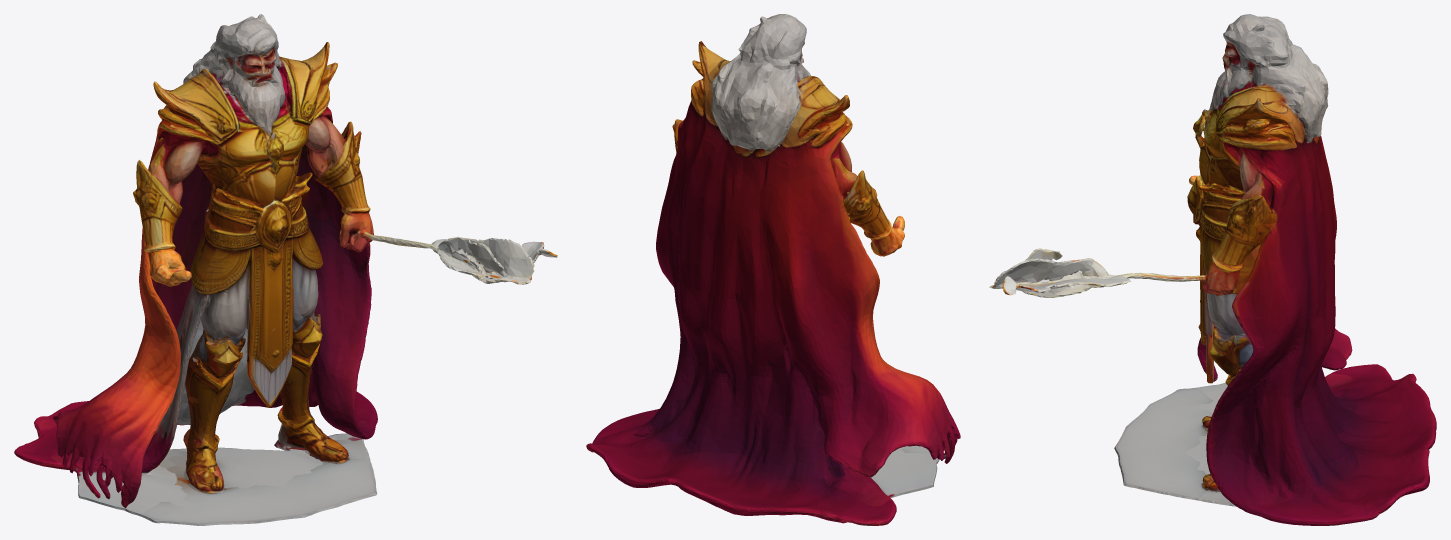
The model's file is hunyuan21.glb.
3 views of the same model, side by side, from view 1: azimuth 30°, elevation 25°; view 2: azimuth 150°, elevation 25°; view 3: azimuth 270°, elevation 25° (orthographic). The views are drawn at different scales.
Parts seen in each view (by area): view 1: textured_mesh.obj; view 2: textured_mesh.obj; view 3: textured_mesh.obj.
Boxes of the visible parts, <box> form: textured_mesh.obj: <box>14,14,557,525</box>; textured_mesh.obj: <box>586,14,960,525</box>; textured_mesh.obj: <box>989,14,1436,525</box>.
Size of the model in its own units: 1.71 by 1.99 by 1.84.
Materials: 1 (1 with a texture image).
